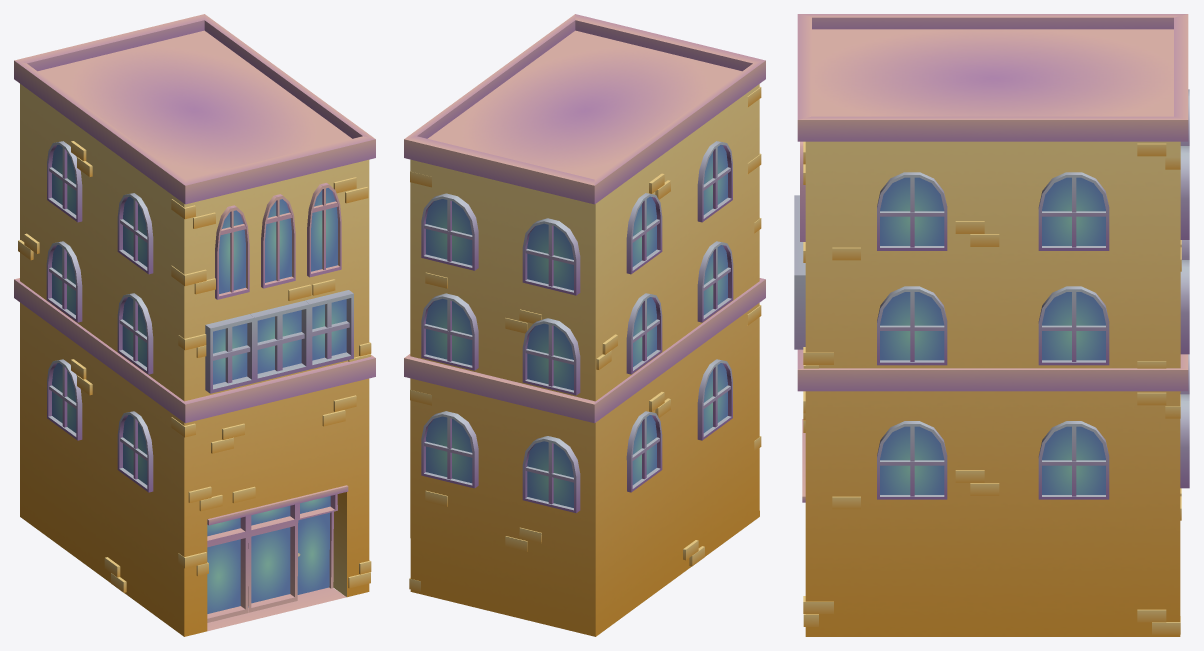
3 views of the same model, side by side, from view 1: azimuth 30°, elevation 25°; view 2: azimuth 150°, elevation 25°; view 3: azimuth 270°, elevation 25° (orthographic). The views are drawn at different scales.
Visible parts, largest first — view 1: SM_4F_06; view 2: SM_4F_06; view 3: SM_4F_06.
Part boxes in pixels (x1,y1,x2,y2): SM_4F_06: [14, 14, 375, 636]; SM_4F_06: [404, 14, 765, 636]; SM_4F_06: [794, 14, 1189, 636].
Size of the model in its own units: 6.01 by 9.26 by 13.41.
